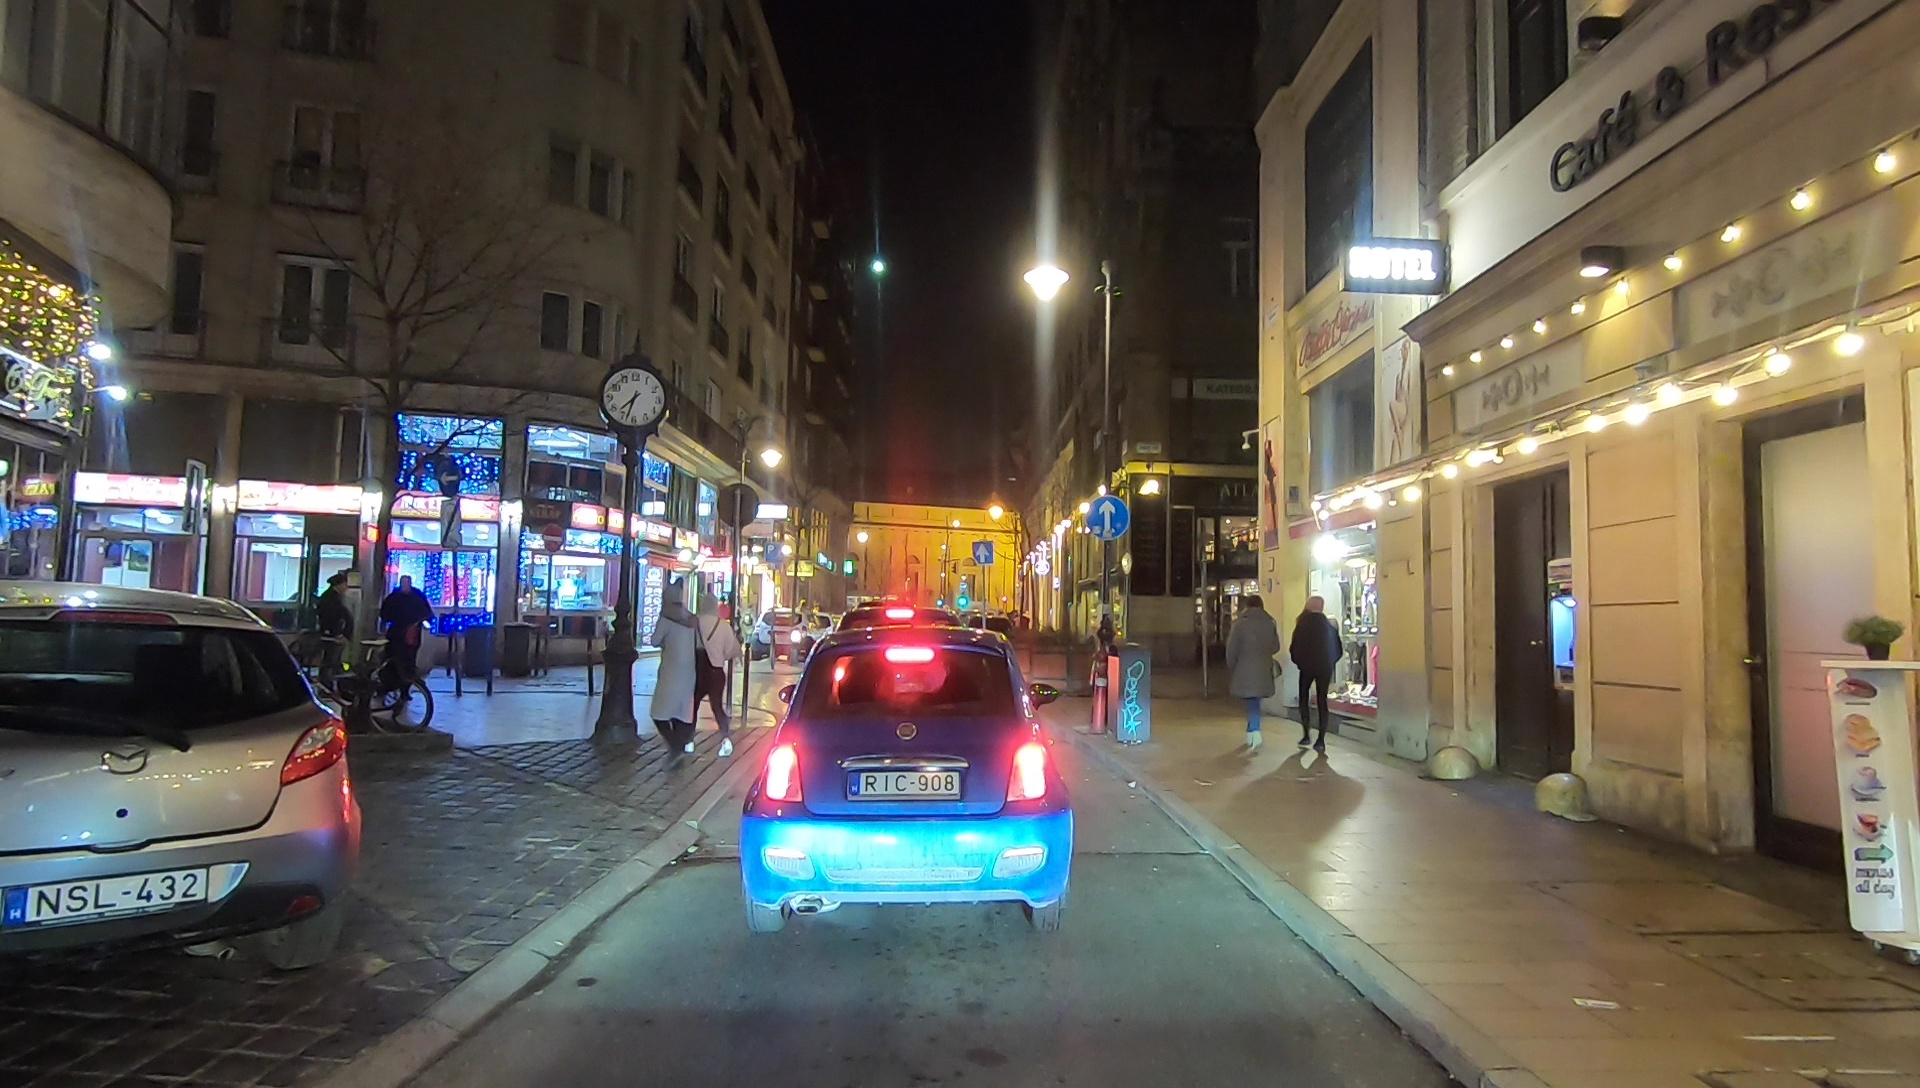person: (647, 586, 702, 763), (1225, 595, 1276, 752), (695, 586, 736, 765), (376, 576, 428, 708), (1295, 600, 1336, 752), (314, 567, 351, 689)
